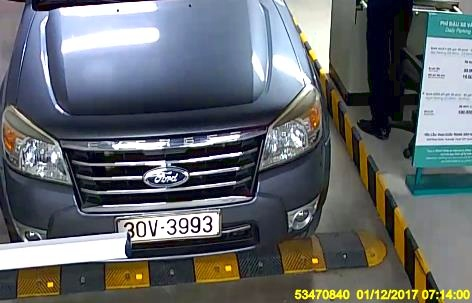plate: (115, 211, 222, 241)
